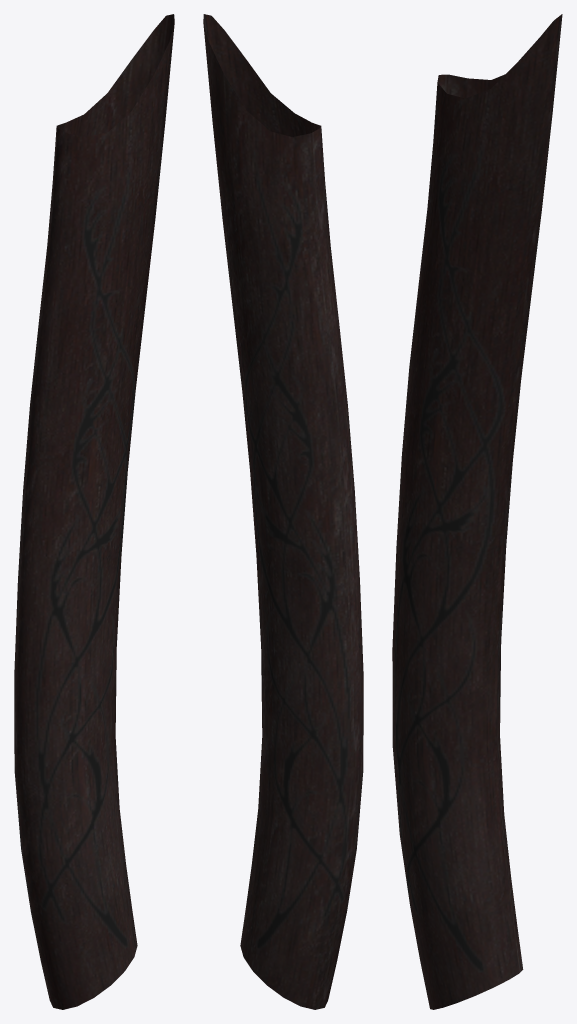
File: wm_rivendell_sword_a02_black_handle.fbx
The picture shows the model from 3 angles, left to right: view 1: azimuth 30°, elevation 25°; view 2: azimuth 150°, elevation 25°; view 3: azimuth 330°, elevation 25°; orthographic projection. The views are drawn at different scales.
Visible parts, largest first — view 1: wm_rivendell_sword_a02_black_handle; view 2: wm_rivendell_sword_a02_black_handle; view 3: wm_rivendell_sword_a02_black_handle.
Boxes of the visible parts, x1,y1,x2,y2 form: wm_rivendell_sword_a02_black_handle: (14,14,174,1009); wm_rivendell_sword_a02_black_handle: (203,14,363,1009); wm_rivendell_sword_a02_black_handle: (392,14,562,1009).
Bounding box in the file's own units: 0.062 × 0.0249 × 0.3647.
Materials: 1 (1 with a texture image).
